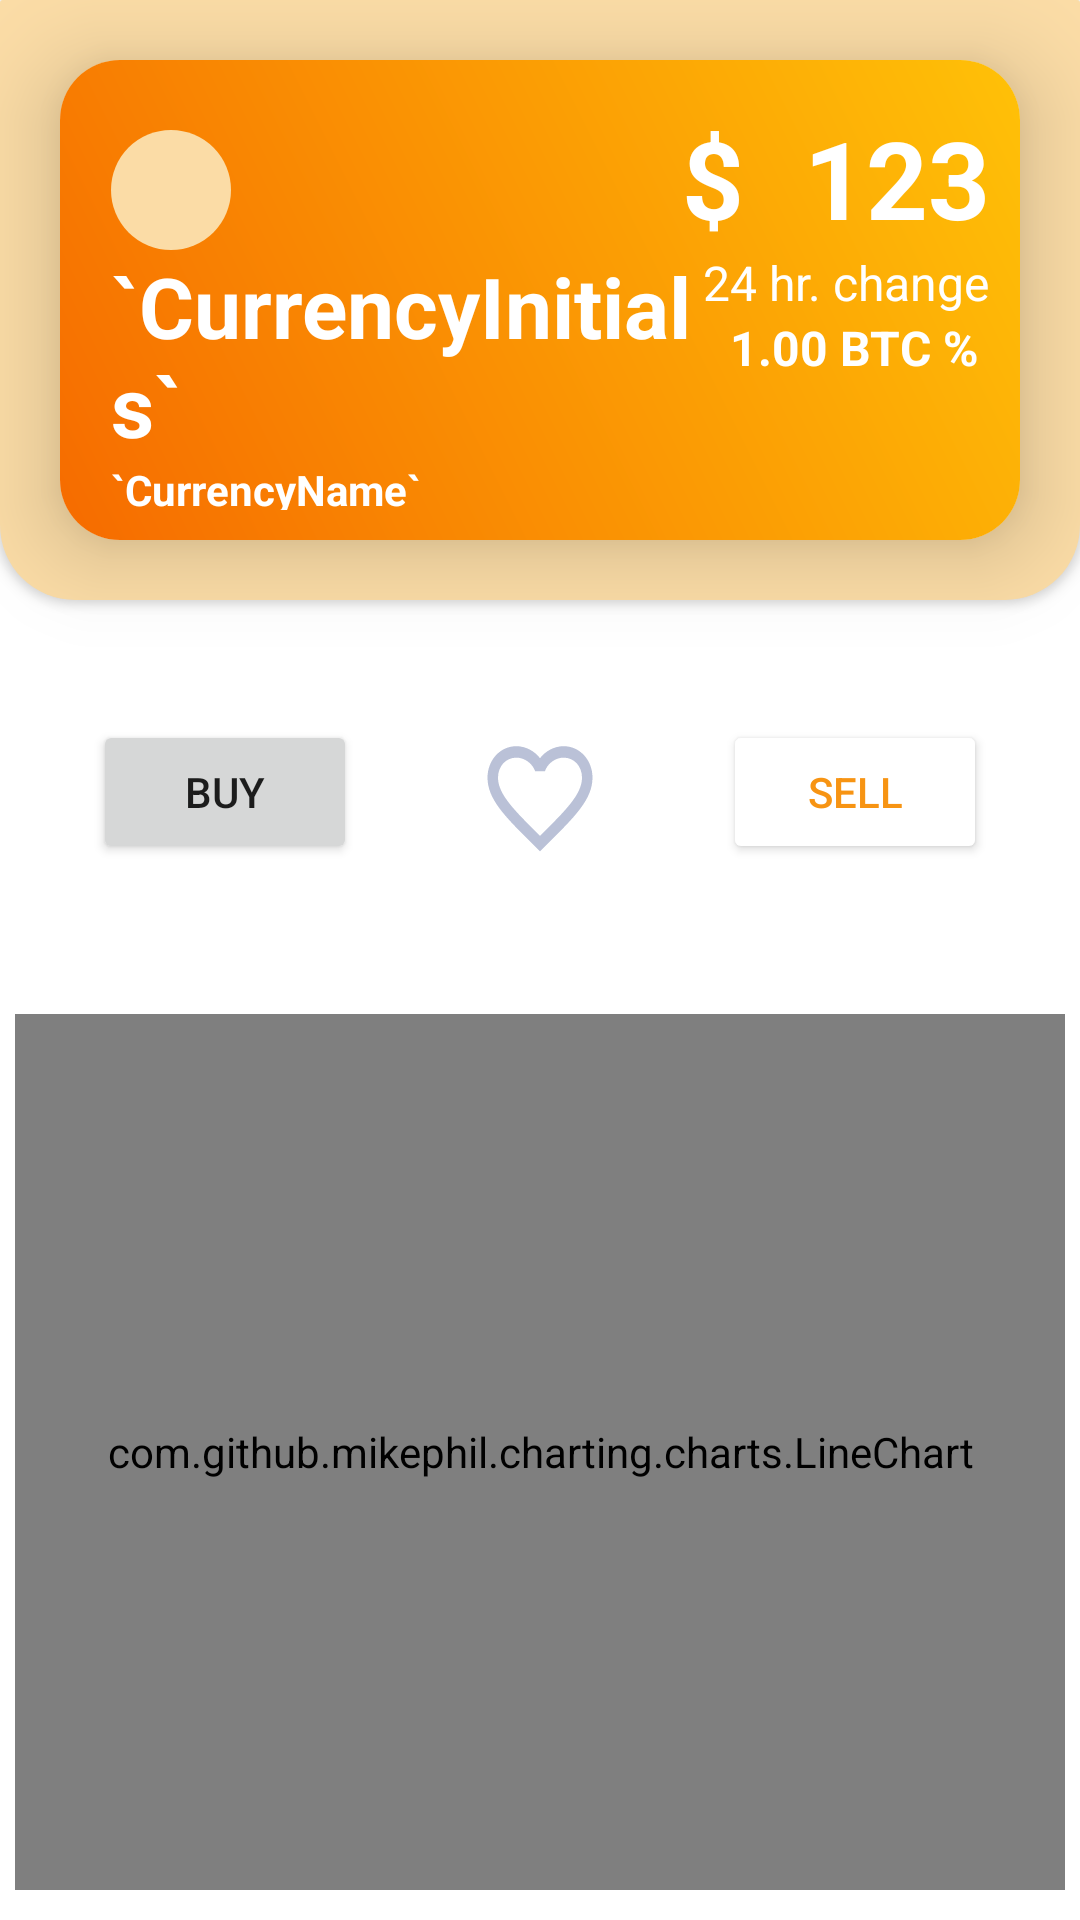

Icon click points for this 1080px×1920px phone screenshot, format (x=x, y=y):
favorite border: (x=540, y=798)
